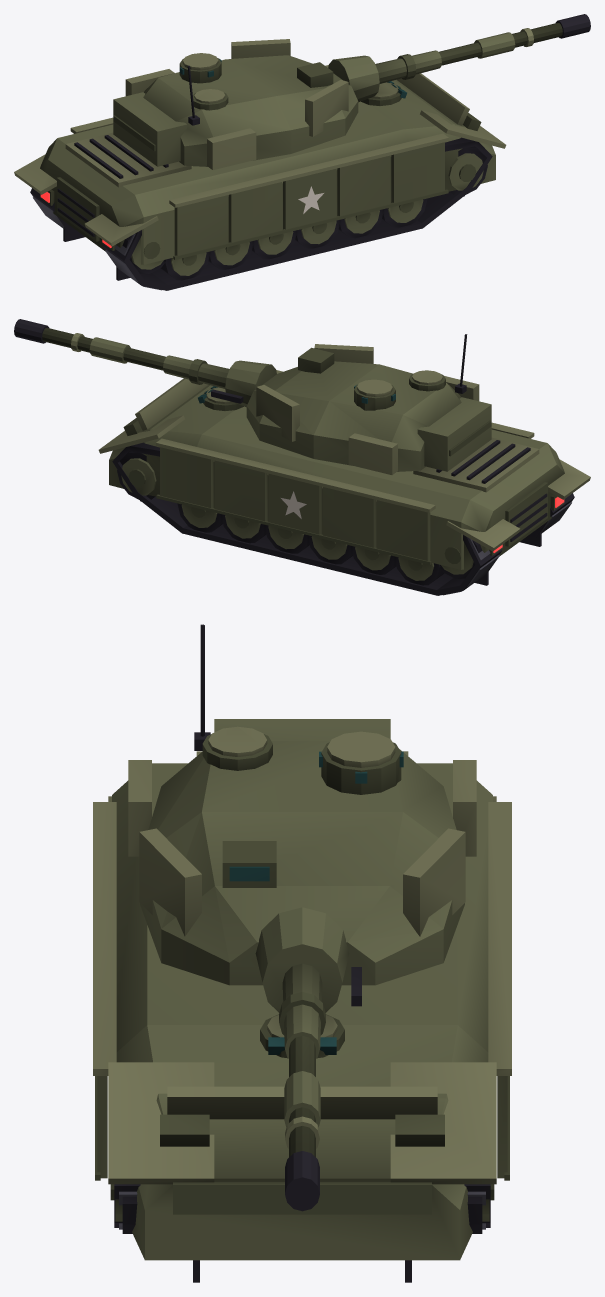
3 views of the same model, one above another, from view 1: azimuth 30°, elevation 25°; view 2: azimuth 150°, elevation 25°; view 3: azimuth 270°, elevation 25° (orthographic). The views are drawn at different scales.
Visible parts, largest first — view 1: body_pal_picketWhite, turret_pal_picketWhite, gun_pal_picketWhite; view 2: body_pal_picketWhite, turret_pal_picketWhite, gun_pal_picketWhite; view 3: body_pal_picketWhite, turret_pal_picketWhite, gun_pal_picketWhite.
Boxes of the visible parts, <box> form: body_pal_picketWhite: <box>14,65,506,290</box>; turret_pal_picketWhite: <box>113,39,358,169</box>; gun_pal_picketWhite: <box>328,14,590,102</box>; body_pal_picketWhite: <box>98,370,590,595</box>; turret_pal_picketWhite: <box>246,334,491,474</box>; gun_pal_picketWhite: <box>14,319,276,407</box>; body_pal_picketWhite: <box>93,751,511,1282</box>; turret_pal_picketWhite: <box>128,624,476,985</box>; gun_pal_picketWhite: <box>255,907,361,1211</box>.
Bounding box in the file's own units: 9.67 × 3.51 × 3.35.
